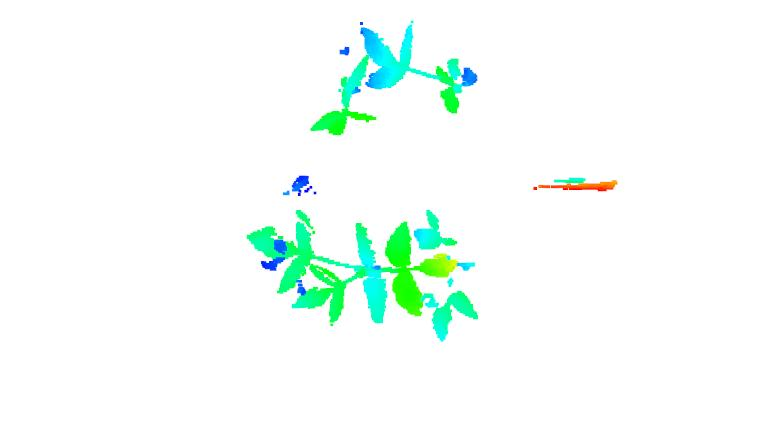mungbean: (245, 218, 427, 321), (358, 19, 482, 115), (410, 211, 482, 340), (311, 55, 372, 138)
